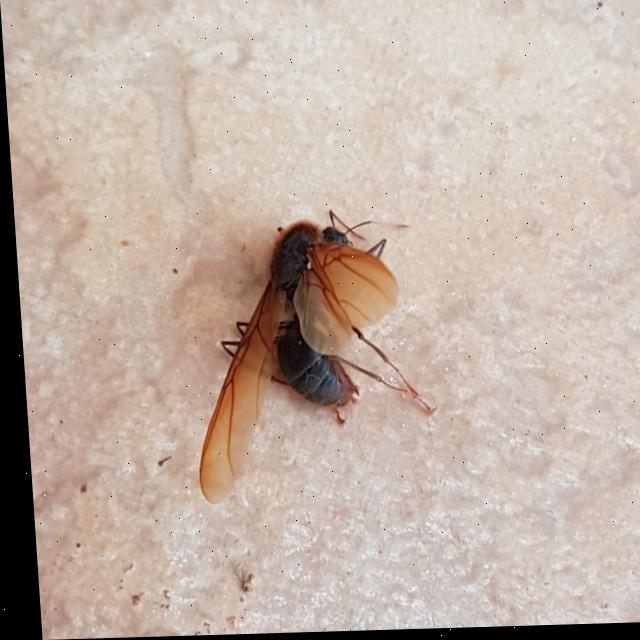Dead-Male-Alate: (178, 208, 437, 506)
